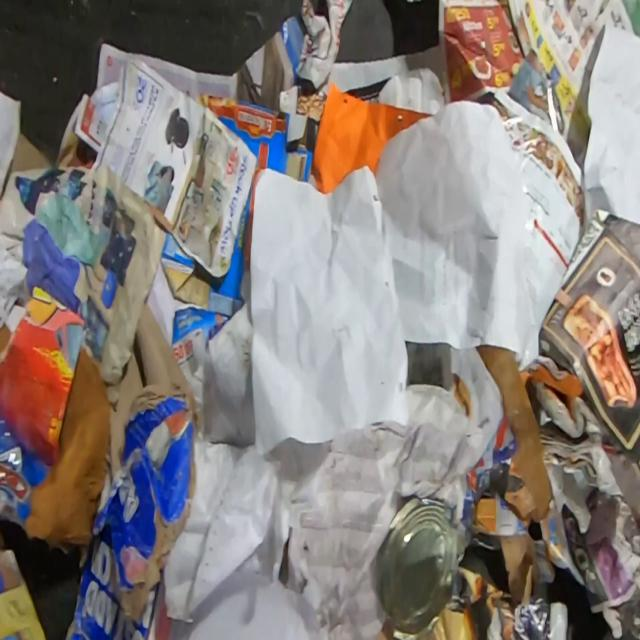cardboard: (64, 302, 197, 640), (160, 85, 314, 318), (538, 206, 640, 456), (22, 344, 111, 550), (0, 285, 87, 469), (474, 344, 554, 525), (0, 406, 51, 526), (295, 0, 354, 92), (496, 532, 539, 607), (10, 131, 56, 173), (0, 321, 11, 359)
metal: (375, 495, 459, 635)
